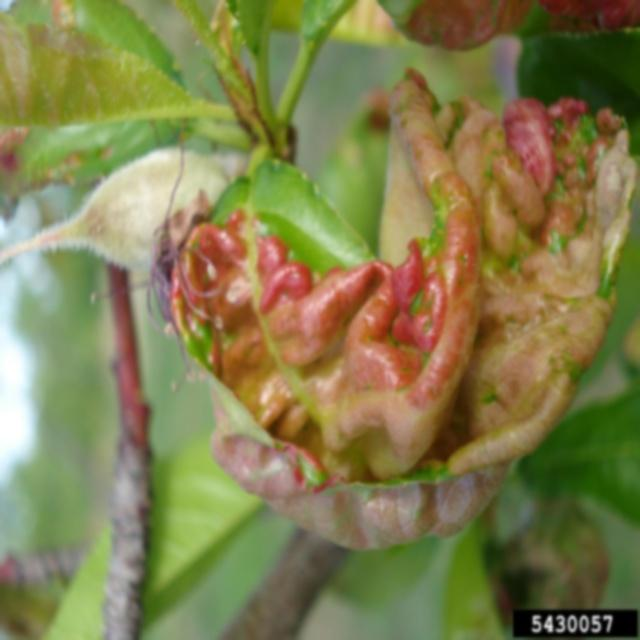leaf_curl: (82, 53, 626, 474)
